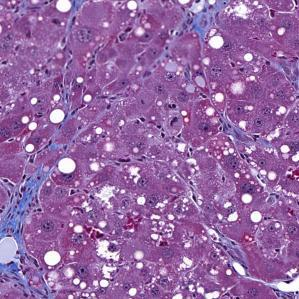fibrosis: (4, 164, 51, 236)
